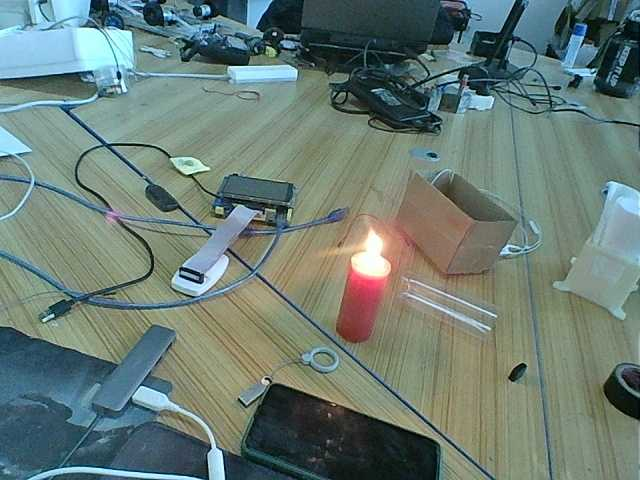candle: (338, 266, 388, 343)
fire: (354, 229, 391, 267)
